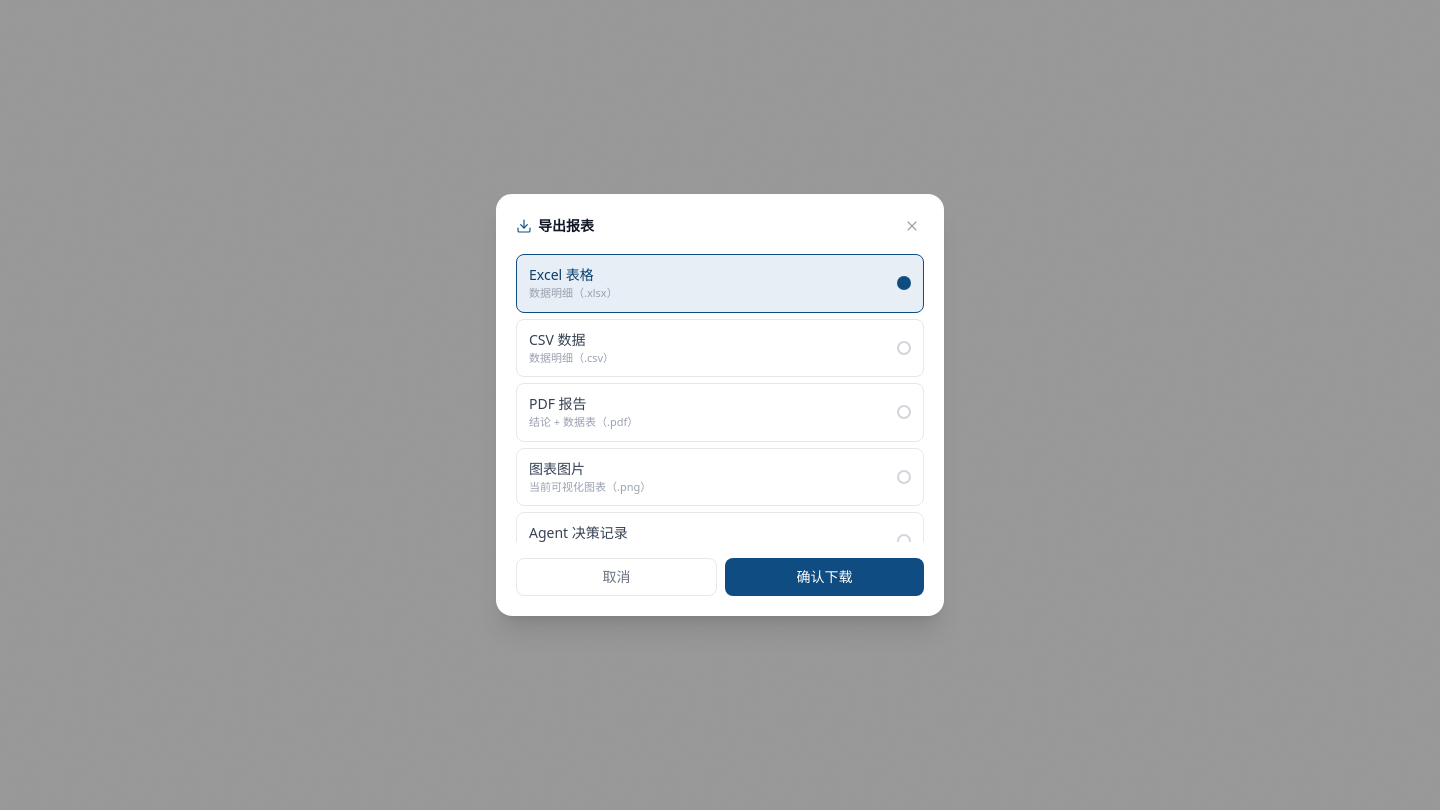
ExportDialog 错误呈现（阶段 53 · A2） › 导出失败：显示弹窗内错误横幅，且弹窗不自动关闭
Click the button "确认下载". click: (824, 577)
box: top-left (725, 558), bottom-right (924, 596)
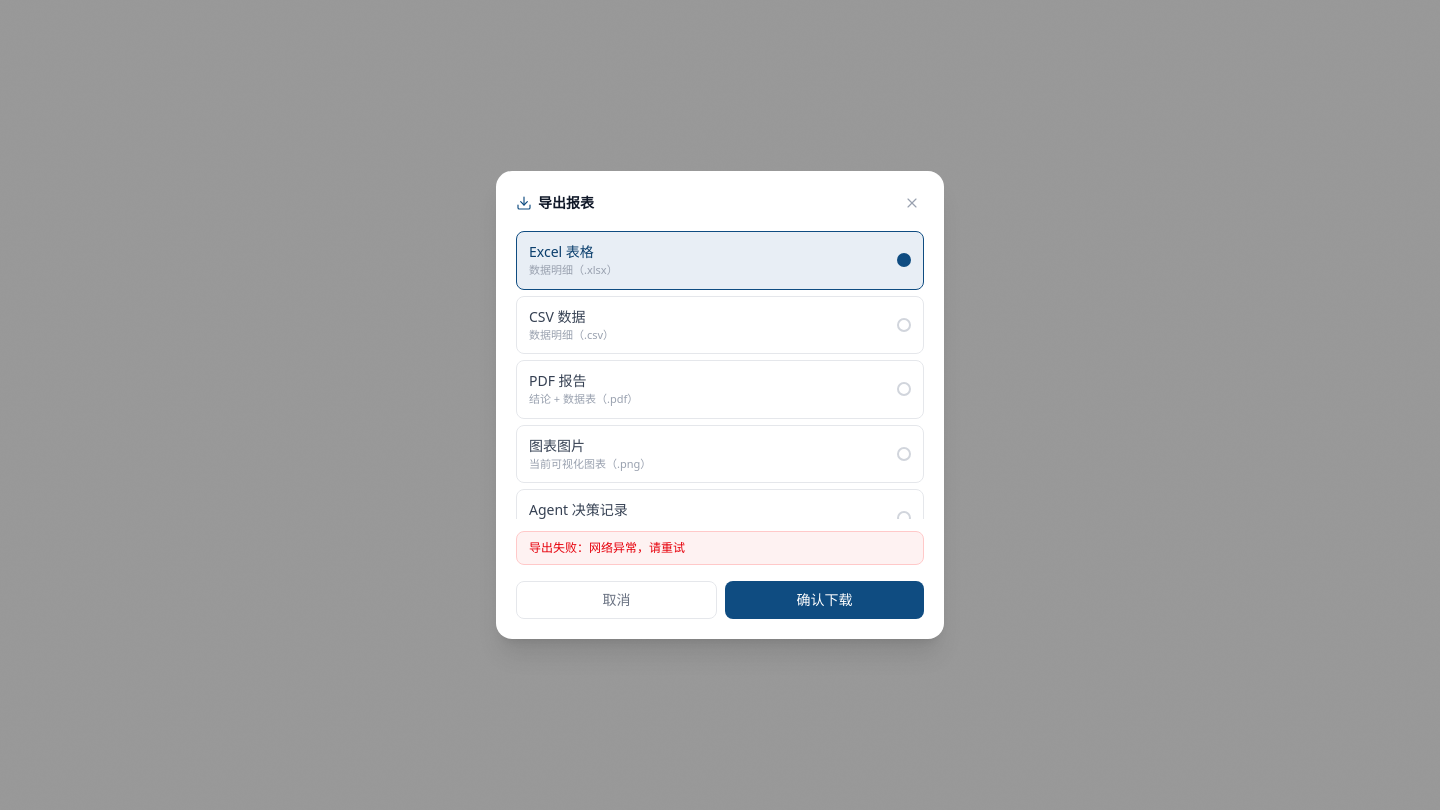
Check: the heading "导出报表" is shown, box top-left (516, 193), bottom-right (594, 213)
Check: the text "导出失败：网络异常，请重试" is shown, box top-left (516, 531), bottom-right (924, 565)
